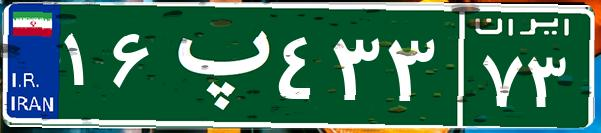1: (57, 26, 110, 107)
3: (385, 28, 445, 110), (330, 28, 385, 110), (525, 38, 570, 115)
4: (273, 28, 330, 110)
6: (110, 28, 158, 105)
7: (475, 38, 525, 113)
پ: (158, 15, 273, 115)
